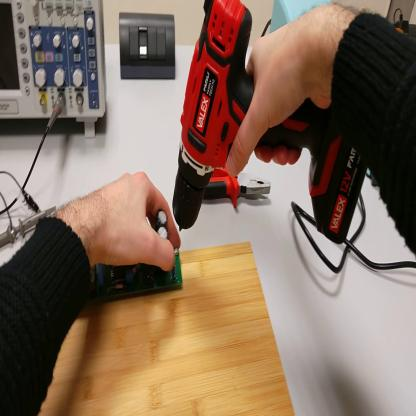electric screwdriver: (172, 1, 368, 246)
hand: (229, 16, 337, 173), (82, 170, 182, 274)
high voltage board: (86, 213, 184, 297)
oscilloscope: (2, 2, 108, 136)
oscilloscope probe tip: (1, 202, 59, 246)
pliers: (202, 168, 274, 208)
socket: (395, 15, 416, 41)
welder station: (270, 2, 333, 36)
working area: (36, 240, 296, 415)
